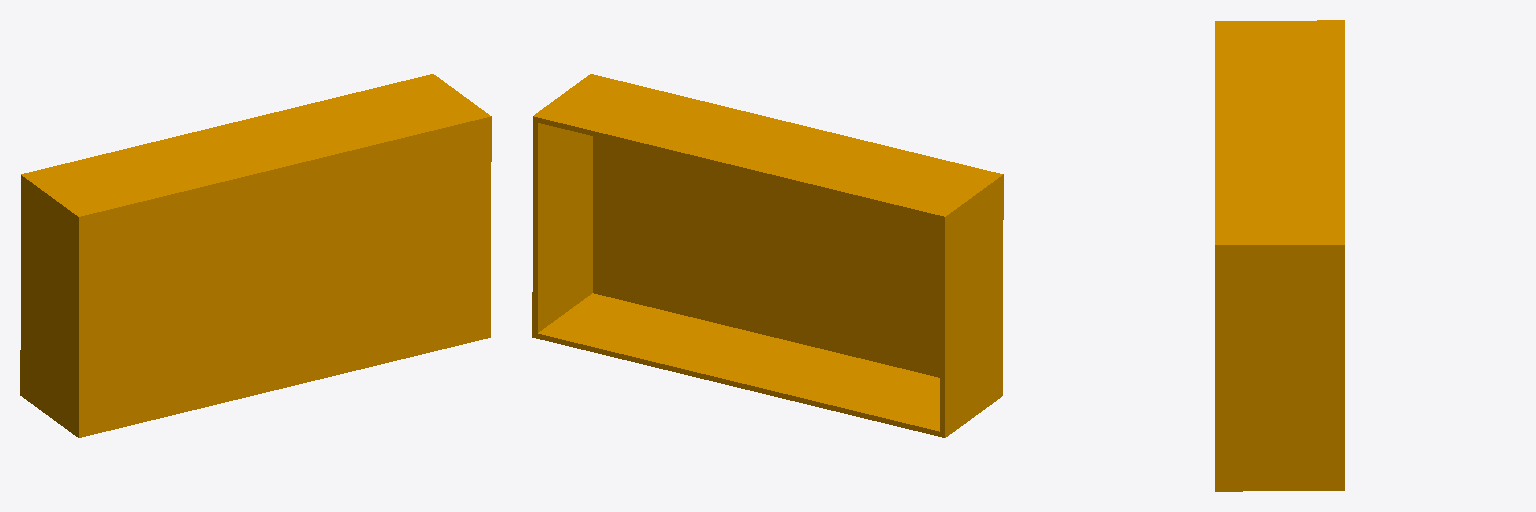
robot.urdf — soil_tub:
<?xml version="1.0"?>

<robot name="soil_tub">

  <link concave="yes" name="soil_tub_link">
    <visual>
      <geometry>
        <mesh filename="package://soil_tub_description/meshes/visual/soil_tub.dae" scale="0.001 0.001 0.001"/>
      </geometry>
      <origin rpy="-1.57 0 0" xyz="0 0 0"/>
    </visual>
    <collision>
      <geometry>
        <mesh filename="package://soil_tub_description/meshes/collision/soil_tub.stl" scale="0.001 0.001 0.001"/>
      </geometry>
      <origin rpy="-1.57 0 0" xyz="0 0 0"/>
    </collision>
  </link>

</robot>

--- Render facts (derived) ---
Views: 3 orthographic renders of the robot side by side, from view 1: azimuth 30°, elevation 25°; view 2: azimuth 150°, elevation 25°; view 3: azimuth 270°, elevation 25°.
Robot: soil_tub — 1 links, 0 joints (none); root link soil_tub_link; default pose: every joint at zero.
Visible links, largest first — view 1: soil_tub_link; view 2: soil_tub_link; view 3: soil_tub_link.
Boxes of the visible links, x1,y1,x2,y2 form: soil_tub_link: [20, 74, 491, 437]; soil_tub_link: [532, 74, 1003, 437]; soil_tub_link: [1215, 20, 1344, 491].
Size in the robot's own frame: 2.05 by 0.5008 by 1.05 metres.
Meshes: 1 distinct files referenced, 1 mesh visuals loaded (1 Collada DAE).